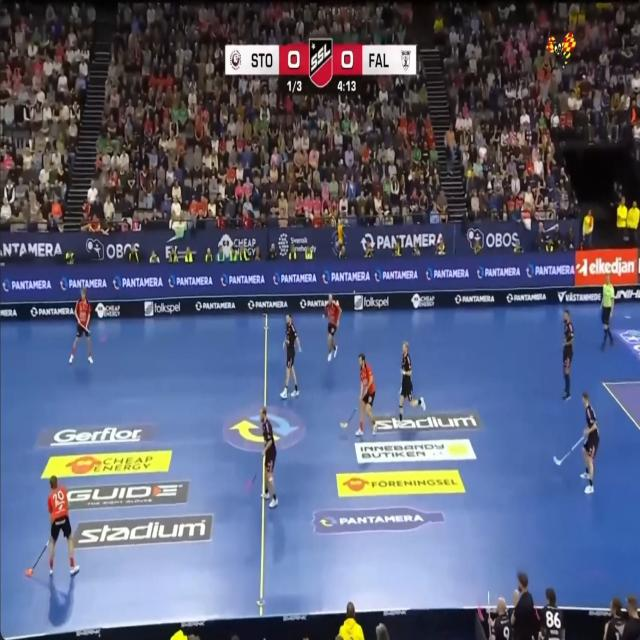player: (47, 475, 79, 575), (399, 341, 425, 419), (581, 392, 599, 493), (280, 314, 301, 399), (69, 287, 92, 363), (261, 407, 278, 507), (356, 353, 376, 436), (539, 588, 564, 639), (324, 294, 342, 360), (562, 309, 574, 399), (601, 273, 615, 349), (487, 597, 512, 639), (604, 597, 624, 639)
stick: (553, 436, 584, 465), (32, 540, 48, 566), (340, 407, 356, 428), (245, 472, 257, 492), (25, 566, 34, 577)
